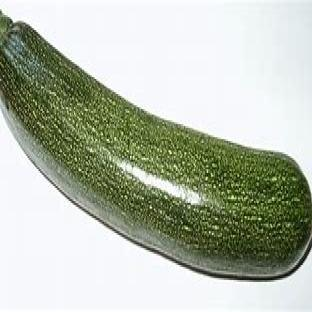Zucchini: (0, 14, 311, 278)
